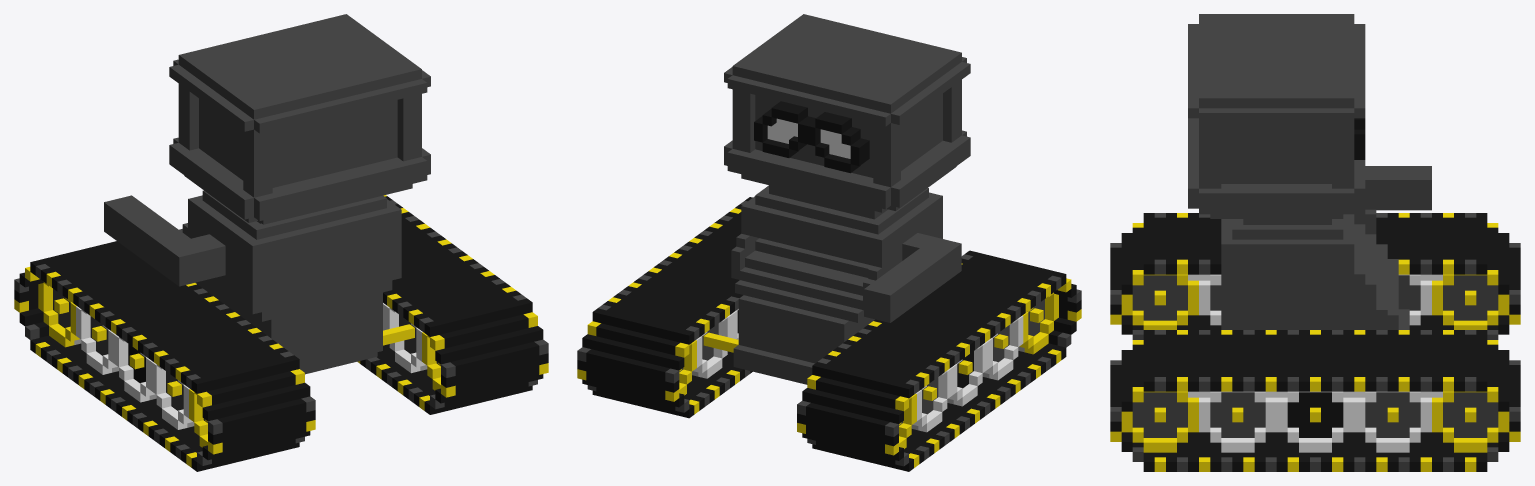
File: character.obj
3 views of the same model, side by side, from view 1: azimuth 30°, elevation 25°; view 2: azimuth 150°, elevation 25°; view 3: azimuth 270°, elevation 25° (orthographic). The views are drawn at different scales.
Bounding box in the file's own units: 3.6 × 3.3 × 3.7.
Materials: 1 (1 with a texture image).
